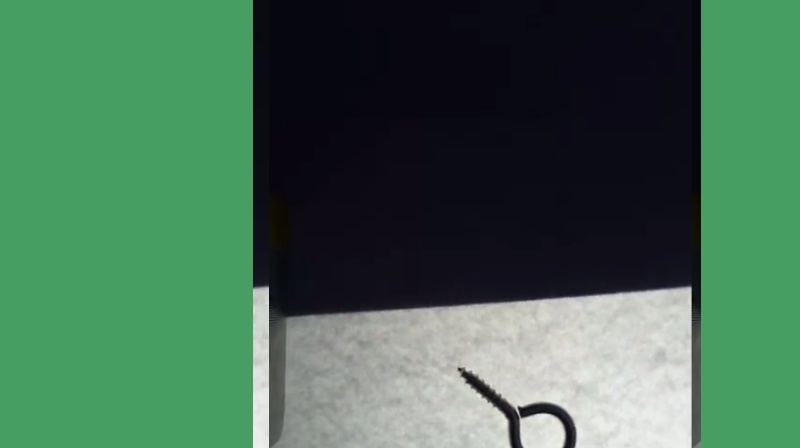O001: (450, 363, 577, 447)
